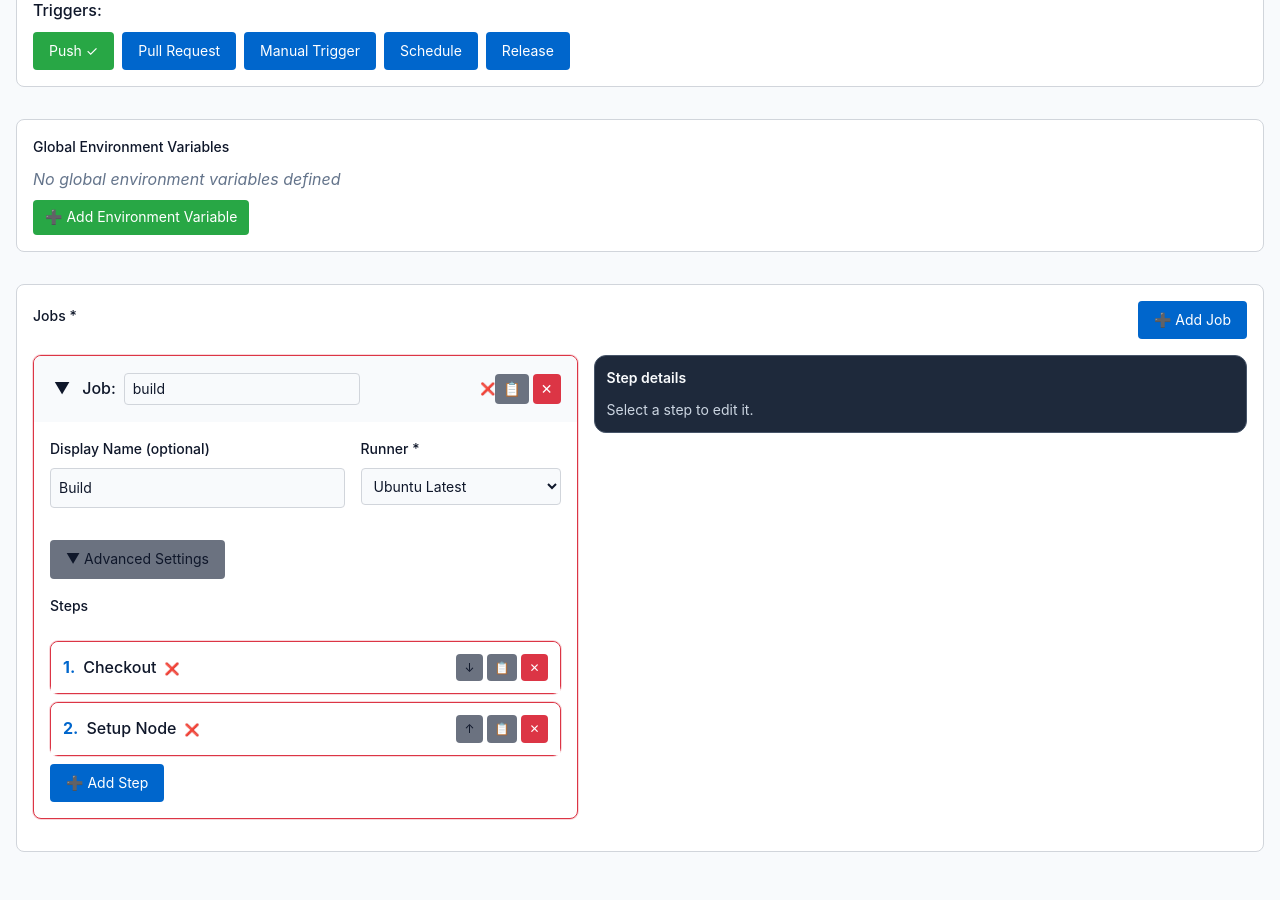
Test: GUIWorkflowEditor step detail panel › closes the panel via the close button and restores focus to the row
The width and height of the screenshot is (1280, 900).
(page scrolled)
Step 1. Click the button "1. Checkout" → [110, 668], box [63,655,157,681]
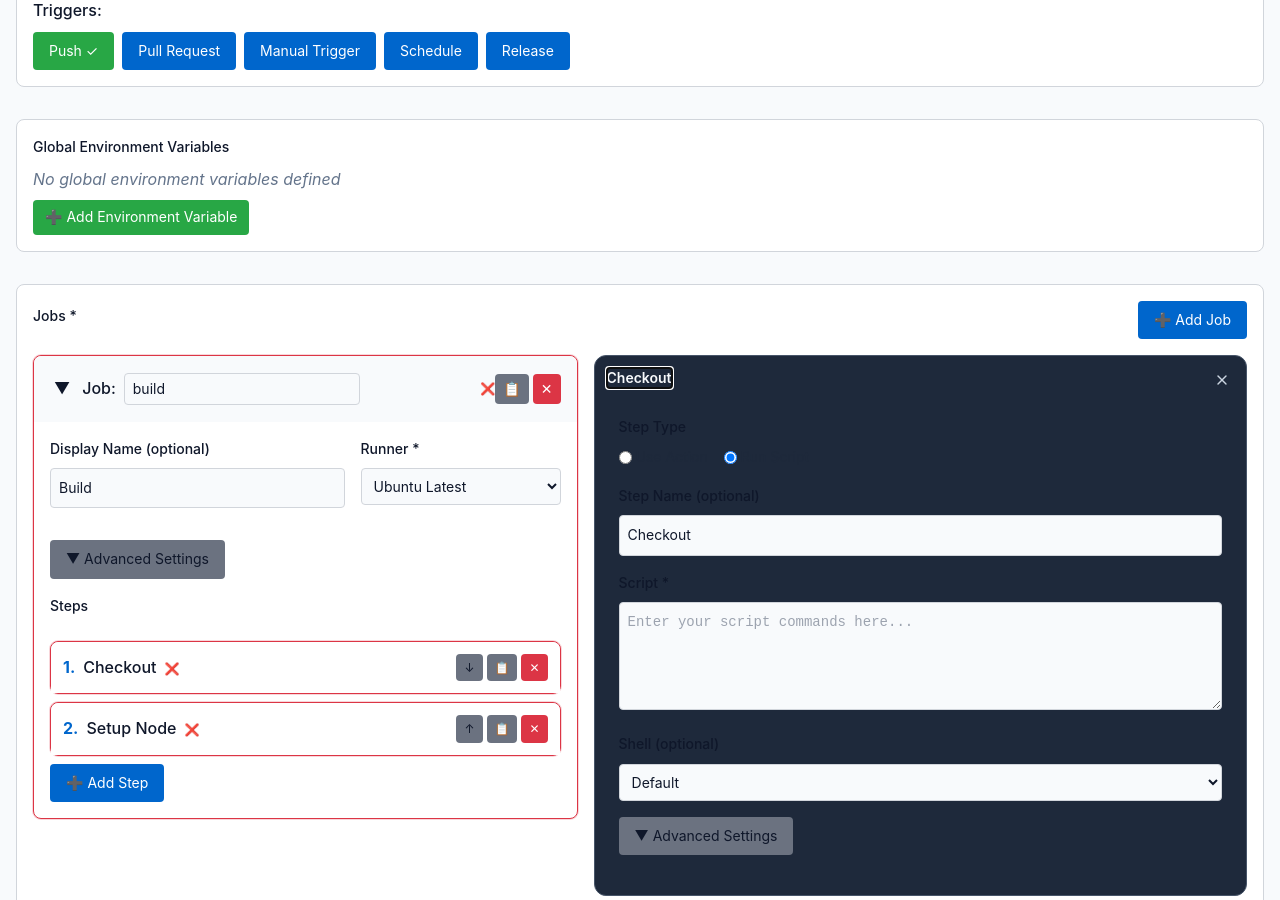
Step 2. Click the button named "Close step details" → [1222, 380], box [1210,368,1234,392]
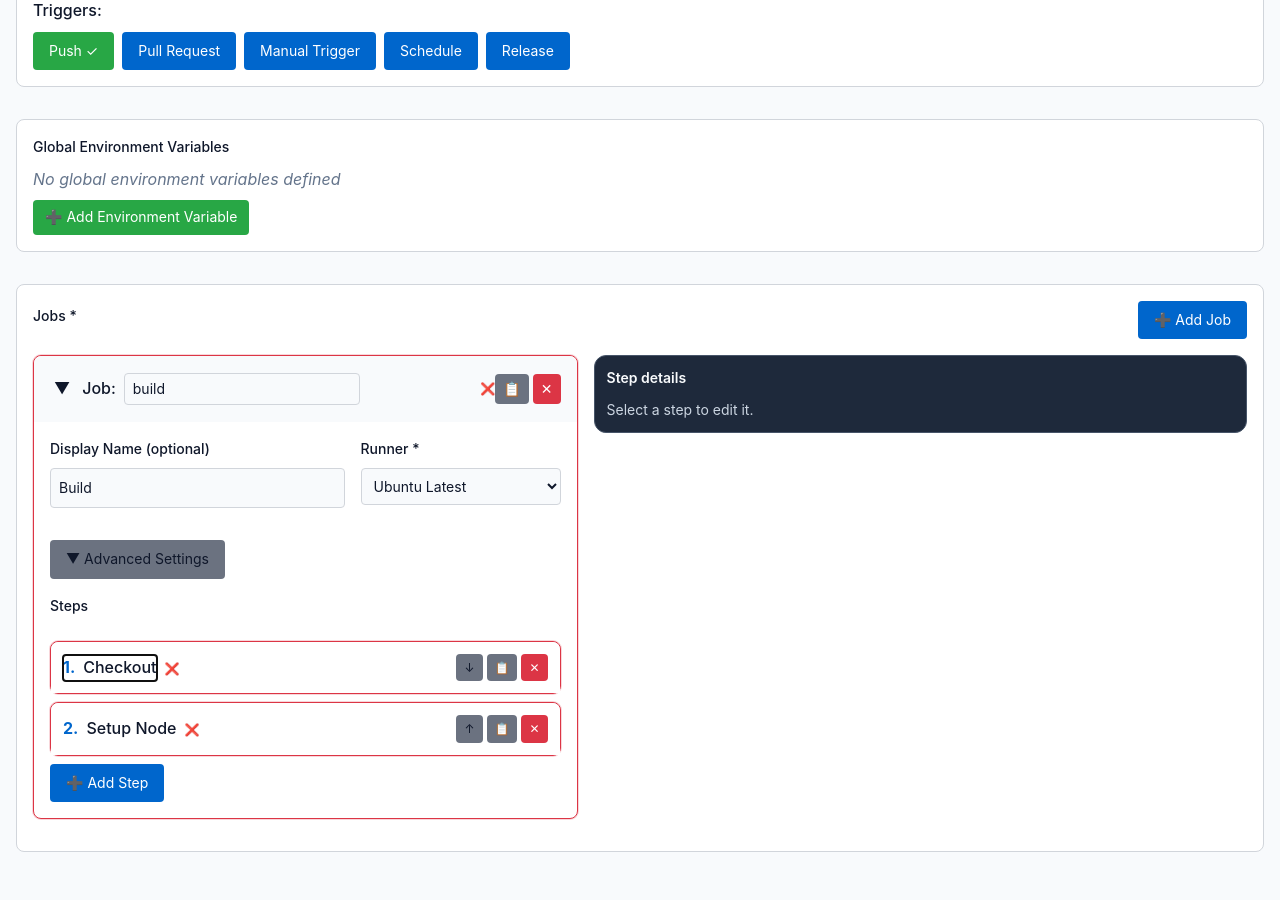
Expected: the element showing "Step details Select a step to edit it." is shown, [594,355,1247,433]
